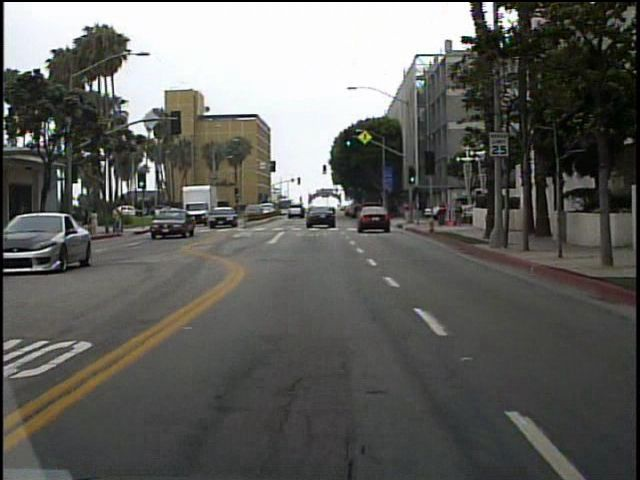person: (113, 203, 124, 237)
